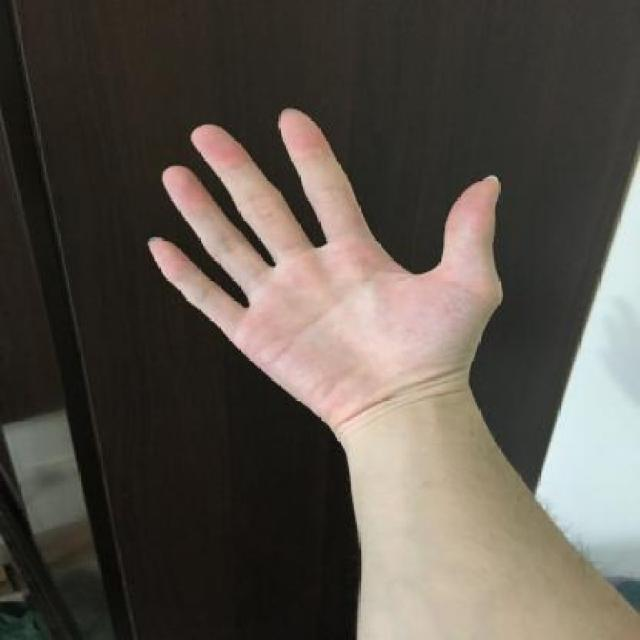hand: (139, 97, 510, 454)
